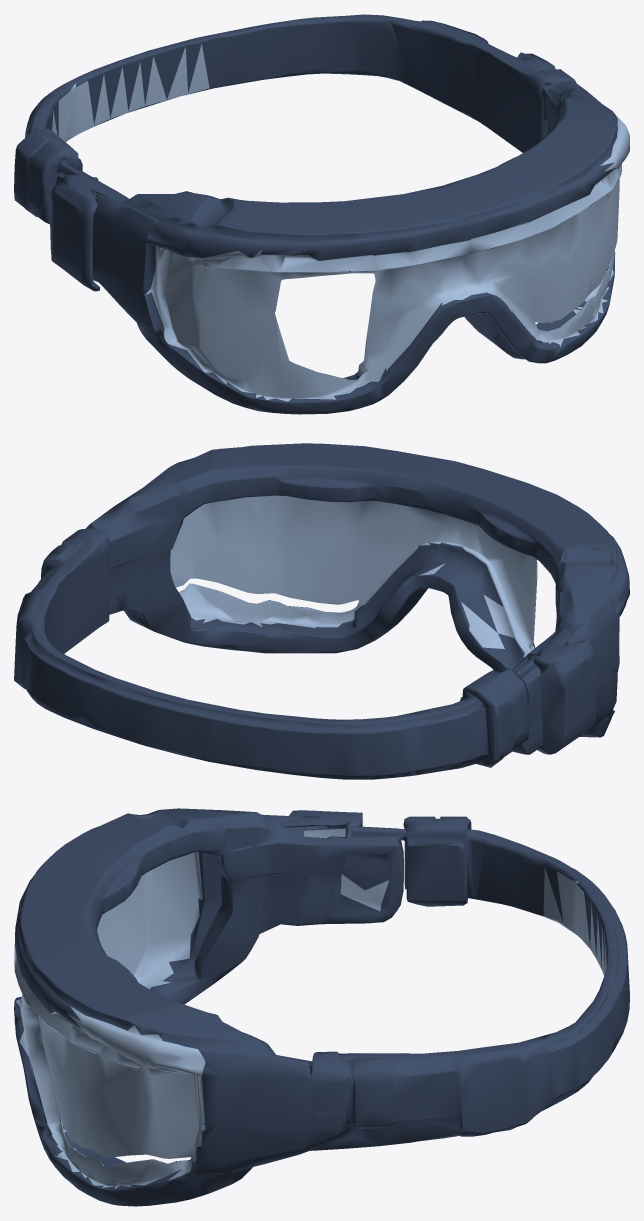
Rendered from safety-goggles.glb.
The picture shows the model from 3 angles, top to bottom: view 1: azimuth 30°, elevation 25°; view 2: azimuth 150°, elevation 25°; view 3: azimuth 270°, elevation 25°; orthographic projection. The views are drawn at different scales.
Visible parts, largest first — view 1: safety-goggles; view 2: safety-goggles; view 3: safety-goggles.
Part boxes in pixels (left/top/right/bottom): safety-goggles: left=14, top=14, right=629, bottom=414; safety-goggles: left=14, top=443, right=629, bottom=779; safety-goggles: left=14, top=808, right=629, bottom=1206.
Size of the model in its own units: 0.1924 by 0.0701 by 0.19.
